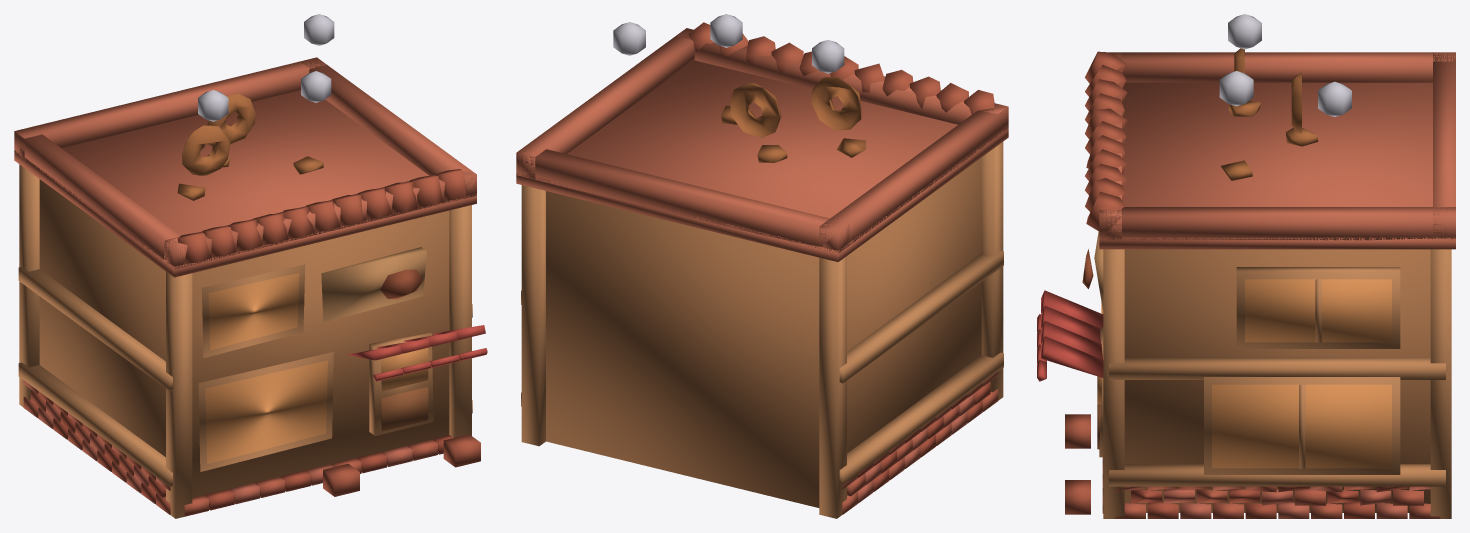
Rendered from yakiniku.glb.
The picture shows the model from 3 angles, left to right: view 1: azimuth 30°, elevation 25°; view 2: azimuth 150°, elevation 25°; view 3: azimuth 270°, elevation 25°; orthographic projection. The views are drawn at different scales.
Visible parts, largest first — view 1: yakiniku; view 2: yakiniku; view 3: yakiniku.
Boxes of the visible parts, left/top/right/bottom form: yakiniku: left=14, top=14, right=487, bottom=518; yakiniku: left=516, top=14, right=1008, bottom=518; yakiniku: left=1037, top=14, right=1455, bottom=518.
Size of the model in its own units: 2.4 by 2.77 by 2.56.
